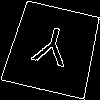Y: (28, 24, 74, 76)
